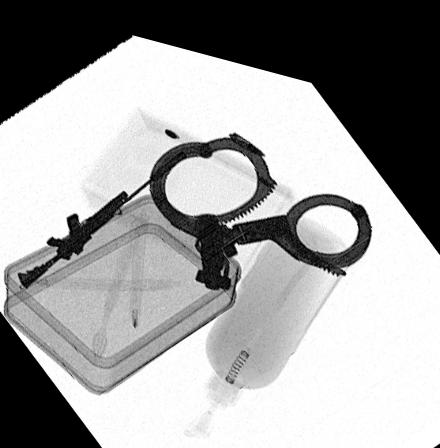Bullet: (230, 118, 265, 143)
Gun: (17, 139, 187, 286)
HandCuffs: (143, 115, 375, 280)
